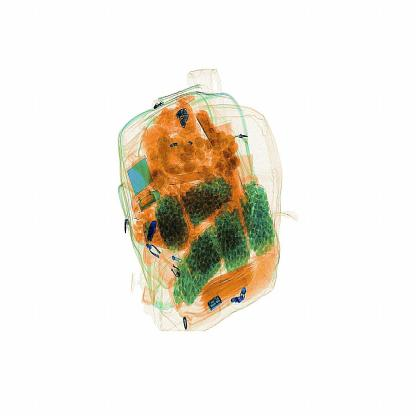wrench: (138, 209, 163, 249)
